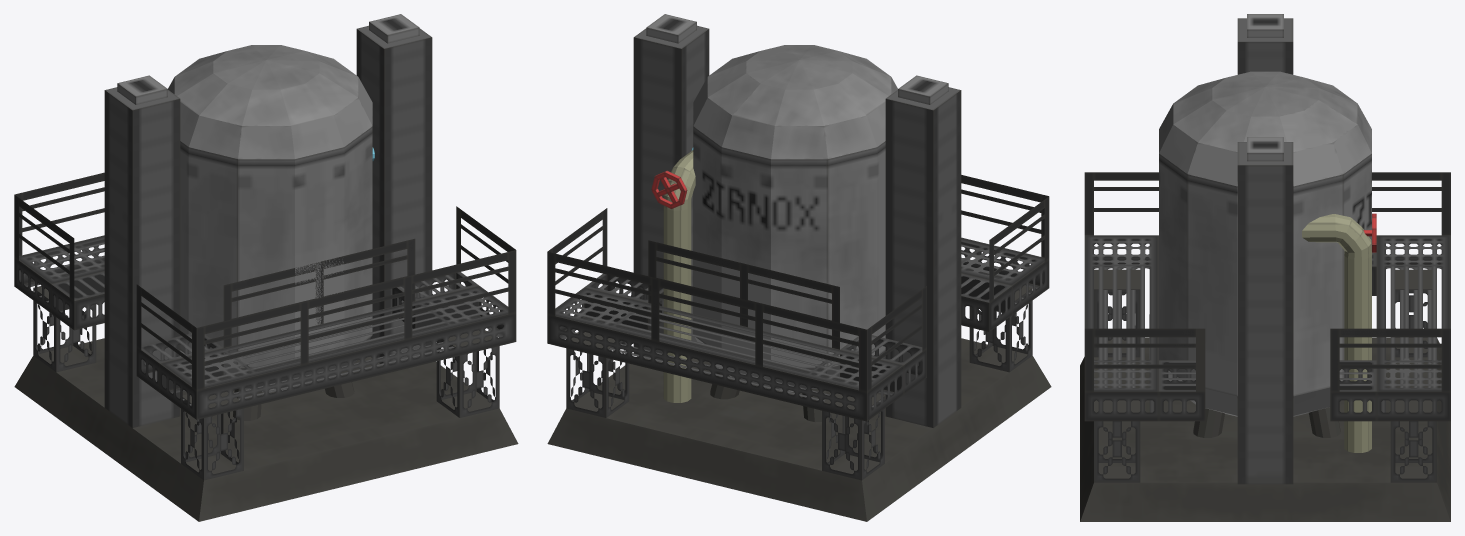
The model's file is zirnox_nuclear_reactor.obj.
The picture shows the model from 3 angles, left to right: view 1: azimuth 30°, elevation 25°; view 2: azimuth 150°, elevation 25°; view 3: azimuth 270°, elevation 25°; orthographic projection.
Visible parts, largest first — view 1: cube; view 2: cube; view 3: cube.
Boxes of the visible parts, left/top/right/bottom form: cube: left=14, top=14, right=518, bottom=521; cube: left=547, top=14, right=1051, bottom=521; cube: left=1080, top=14, right=1450, bottom=521.
Bounding box in the file's own units: 5 × 5.38 × 5.
